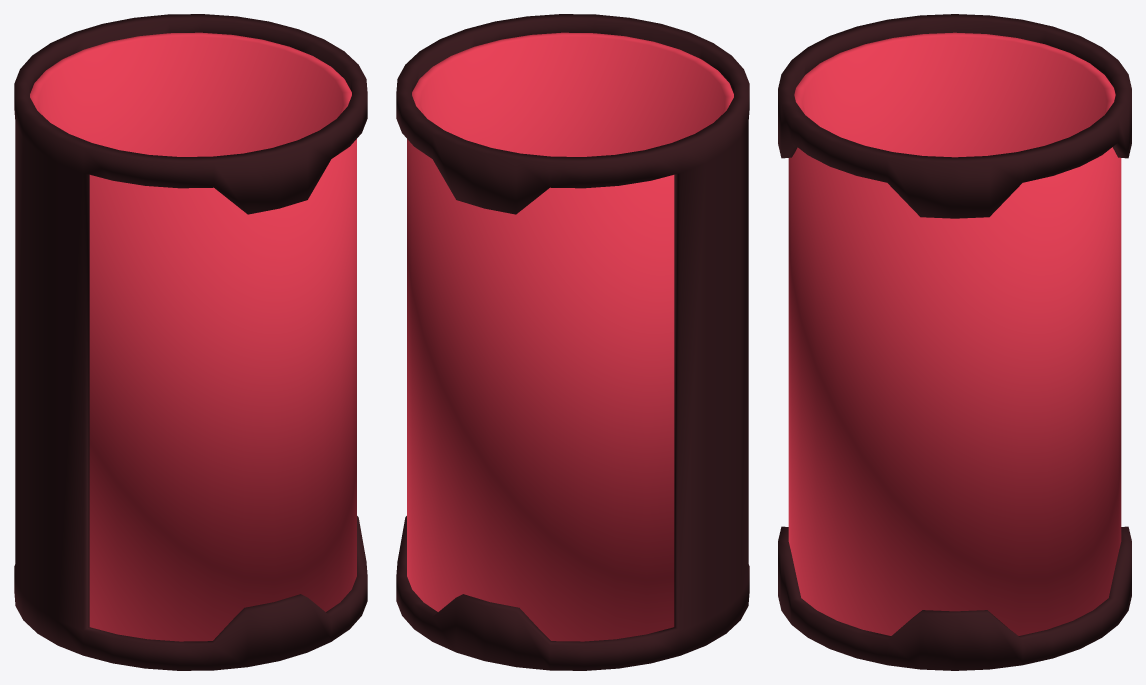
The model's file is Tubo.fbx.
3 views of the same model, side by side, from view 1: azimuth 30°, elevation 25°; view 2: azimuth 150°, elevation 25°; view 3: azimuth 270°, elevation 25° (orthographic).
Parts seen in each view (by area): view 1: Cilindro, Cilindro.001; view 2: Cilindro, Cilindro.001; view 3: Cilindro, Cilindro.001.
Boxes of the visible parts, x1,y1,x2,y2 form: Cilindro: (30,32,356,641); Cilindro.001: (14,14,367,670); Cilindro: (407,32,733,641); Cilindro.001: (396,14,749,670); Cilindro: (788,32,1121,635); Cilindro.001: (778,14,1131,670).
Size of the model in its own units: 213 by 337 by 213.
